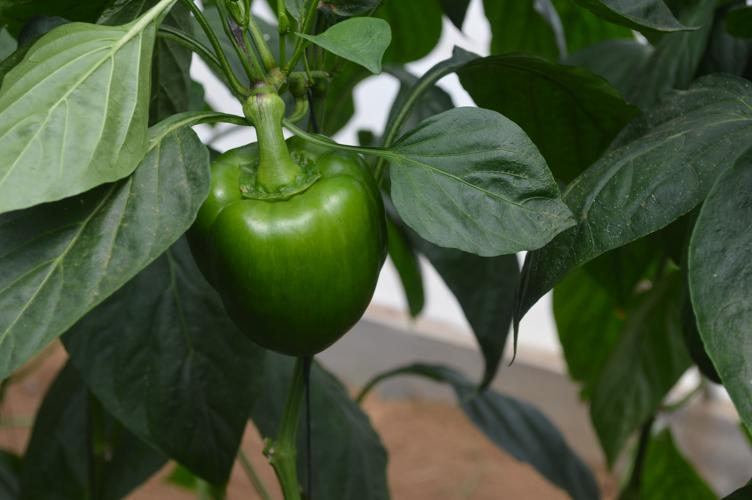BellPepper: (194, 130, 394, 349)
